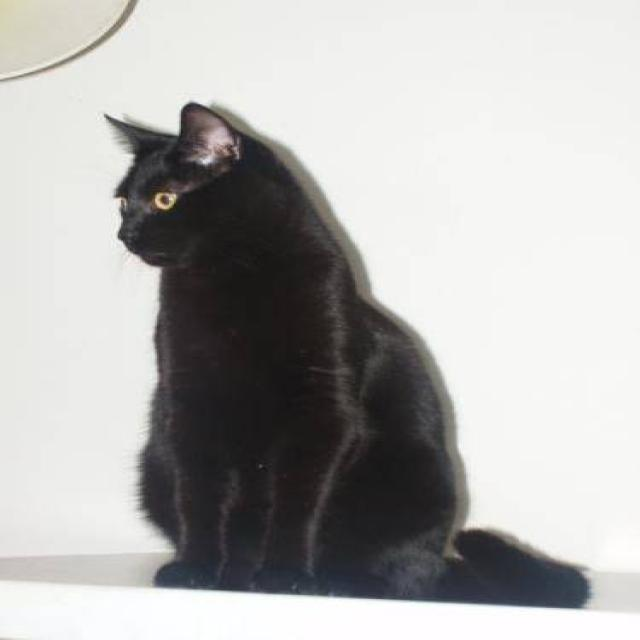Cat: (95, 97, 276, 280)
